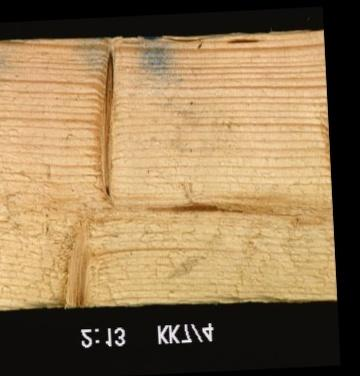split: (260, 207, 330, 228)
